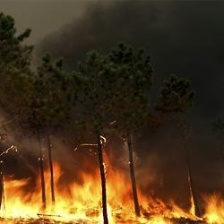fire: (1, 157, 223, 224)
